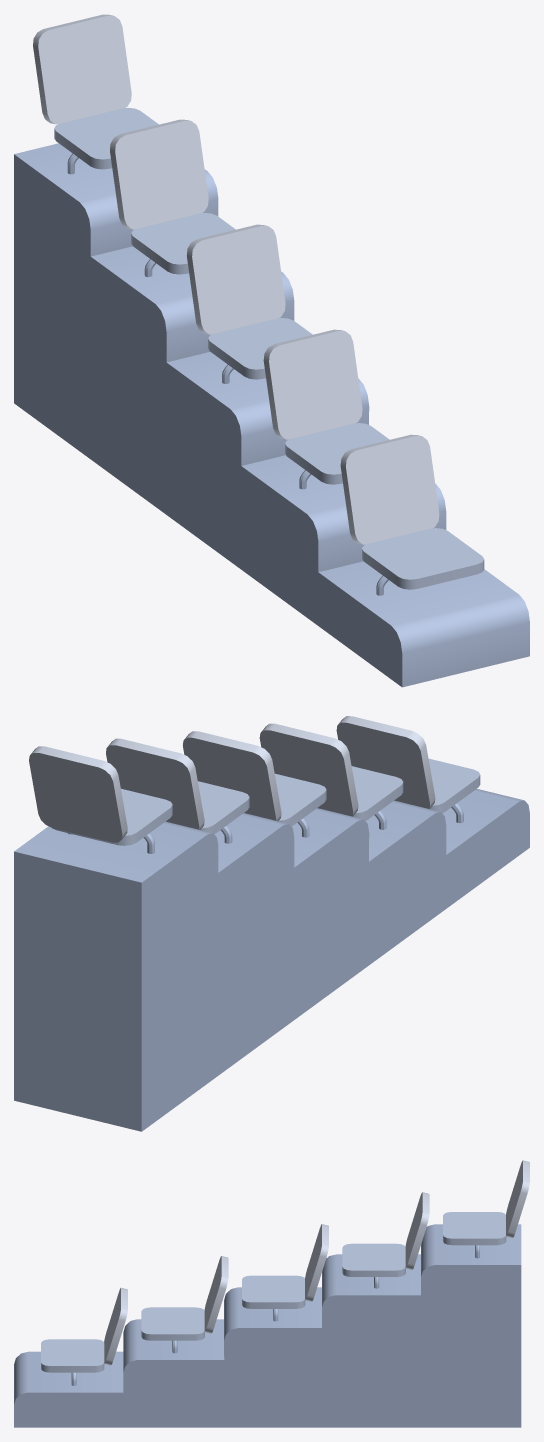
The model's file is Tribune.fbx.
The picture shows the model from 3 angles, top to bottom: view 1: azimuth 30°, elevation 25°; view 2: azimuth 150°, elevation 25°; view 3: azimuth 270°, elevation 25°; orthographic projection. The views are drawn at different scales.
Visible parts, largest first — view 1: Tribune, Tribune.003; view 2: Tribune.003, Tribune; view 3: Tribune.003, Tribune.
Boxes of the visible parts, box(x1,y1,x2,y2) form: Tribune: box(166, 224, 529, 687); Tribune.003: box(14, 14, 294, 514); Tribune.003: box(14, 738, 294, 1131); Tribune: box(182, 716, 529, 1019); Tribune.003: box(322, 1160, 529, 1427); Tribune: box(14, 1224, 328, 1427).
Size of the model in its own units: 1.39 by 3.77 by 7.44.
